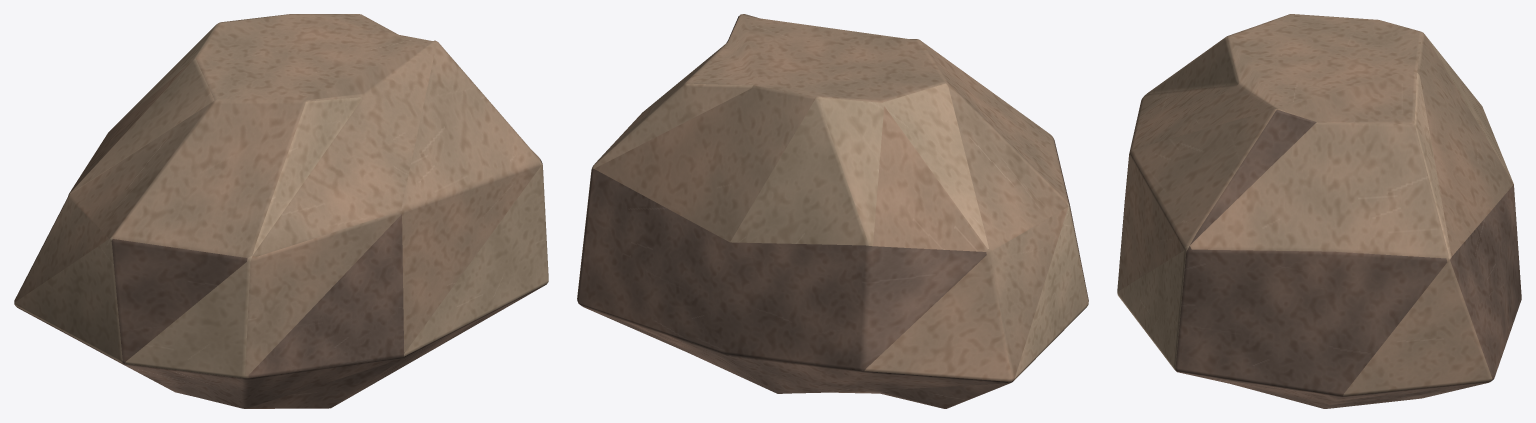
File: PitLipRubble_01.glb
3 renders of one model, left to right at view 1: azimuth 30°, elevation 25°; view 2: azimuth 150°, elevation 25°; view 3: azimuth 270°, elevation 25°, orthographic. The views are drawn at different scales.
Parts seen in each view (by area): view 1: Fractured_crust_warm_panel; view 2: Fractured_crust_warm_panel; view 3: Fractured_crust_warm_panel.
Boxes of the visible parts, x1=… form: Fractured_crust_warm_panel: x1=14, y1=14, x2=548, y2=408; Fractured_crust_warm_panel: x1=577, y1=14, x2=1088, y2=408; Fractured_crust_warm_panel: x1=1117, y1=14, x2=1521, y2=408.
Size of the model in its own units: 0.3149 by 0.2058 by 0.2358.
3 materials, 3 textured.
